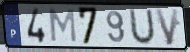4: (26, 6, 47, 44)
7: (77, 6, 100, 47)
9: (105, 9, 126, 43)
M: (48, 8, 78, 45)
U: (129, 7, 157, 47)
V: (154, 8, 181, 48)
